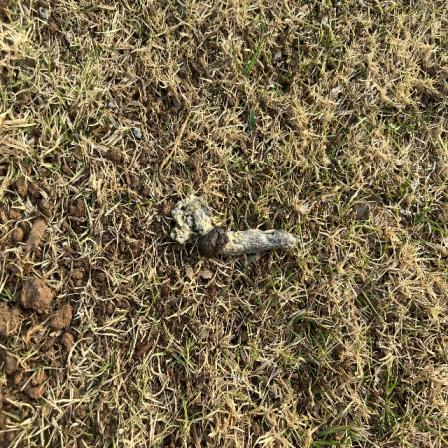dog-poop: (158, 184, 306, 271)
